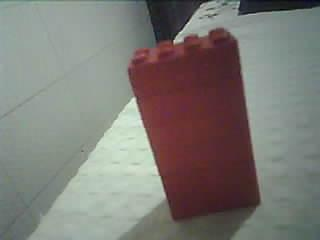lego: (127, 27, 262, 222)
